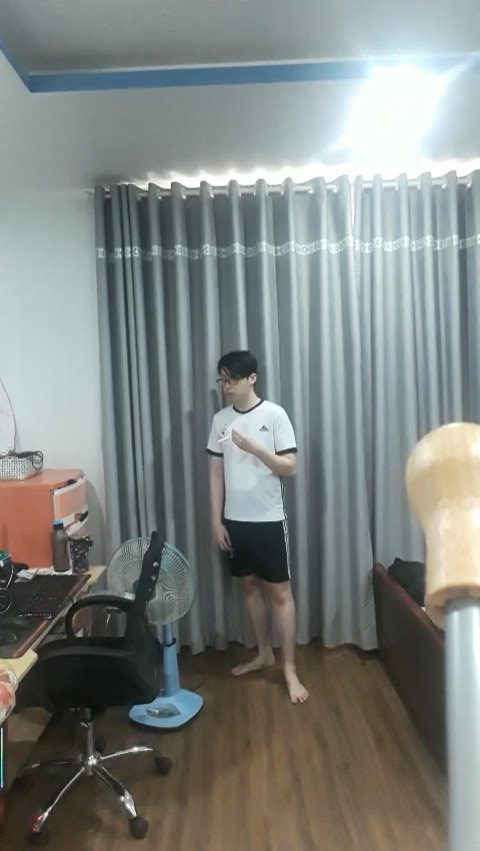cigarette: (218, 436, 231, 444)
person: (207, 343, 321, 704)
